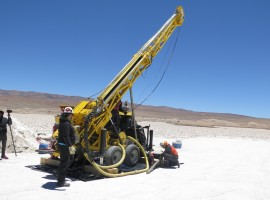epi: (56, 106, 79, 186), (159, 138, 182, 169)
